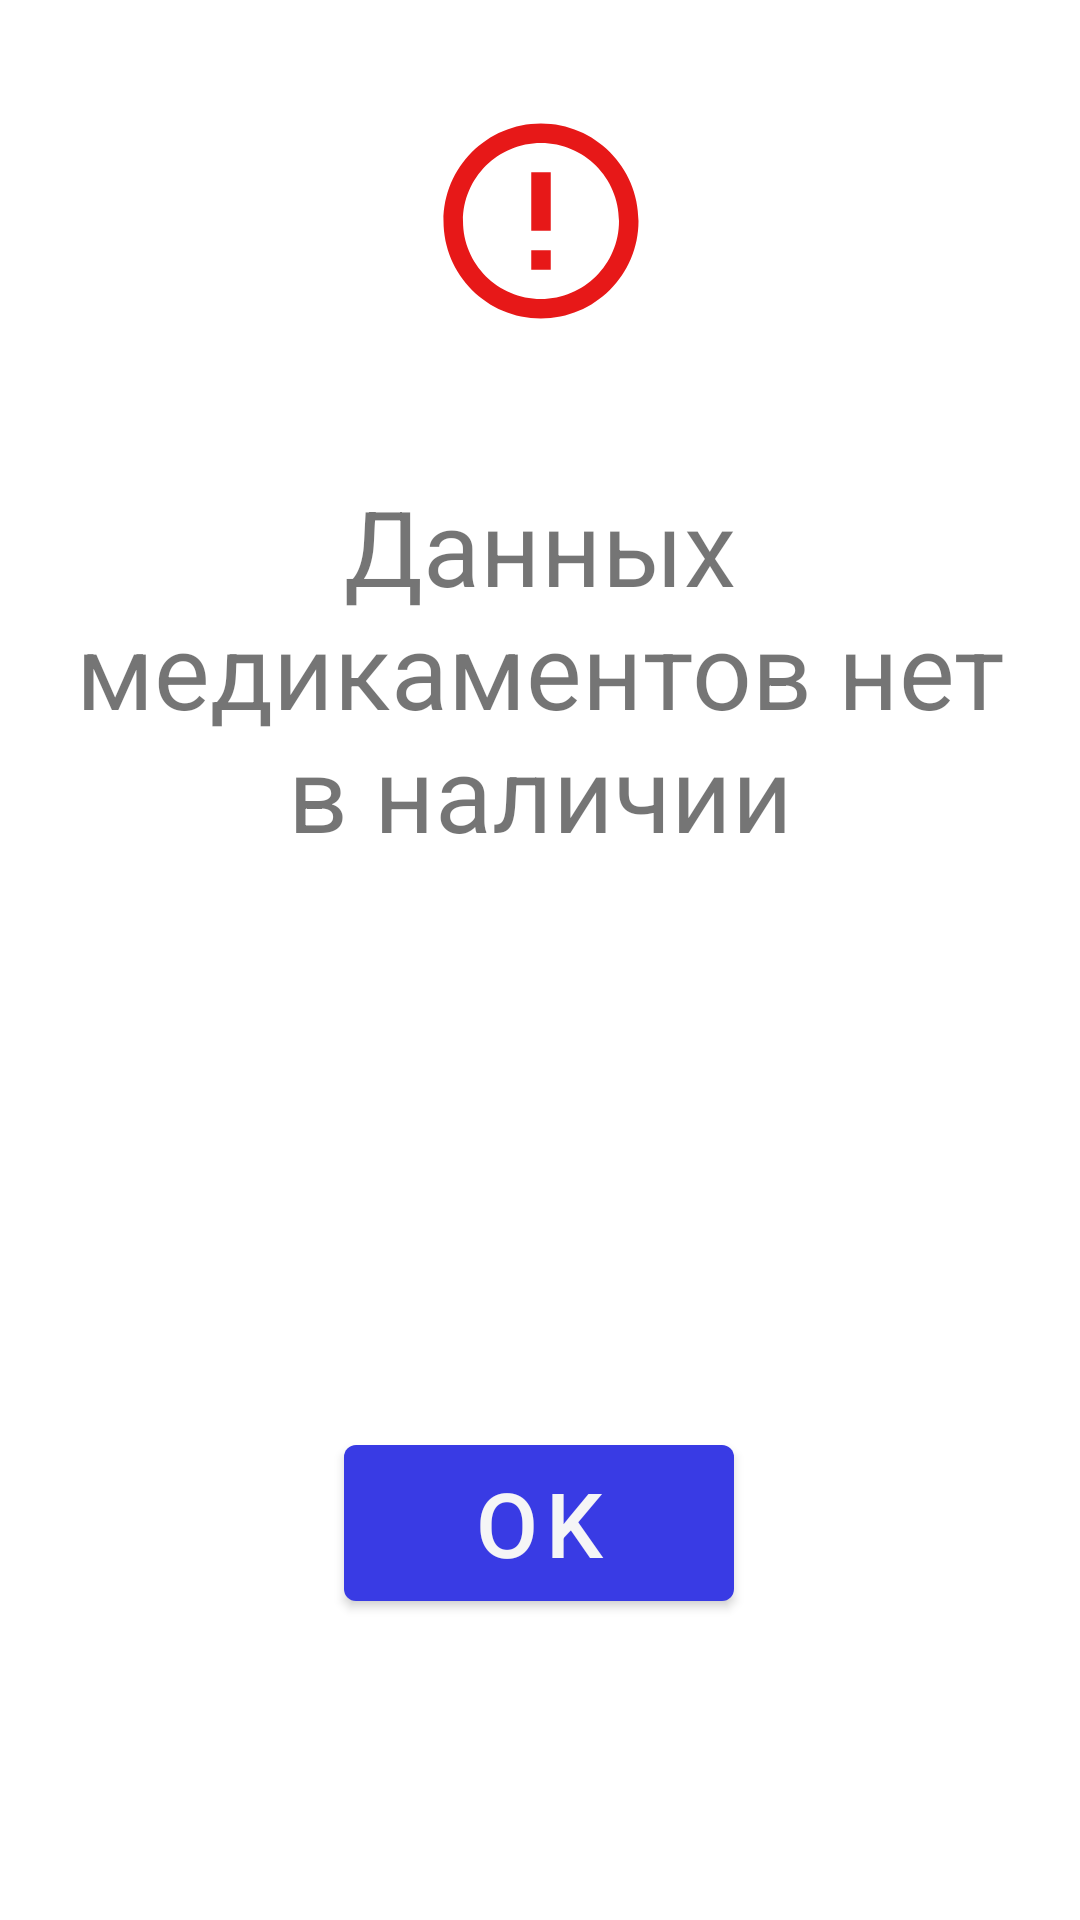

Screen size 1080 x 1920. Icon name, then its center in pixels as (x=x, y=y):
error: (x=541, y=221)
